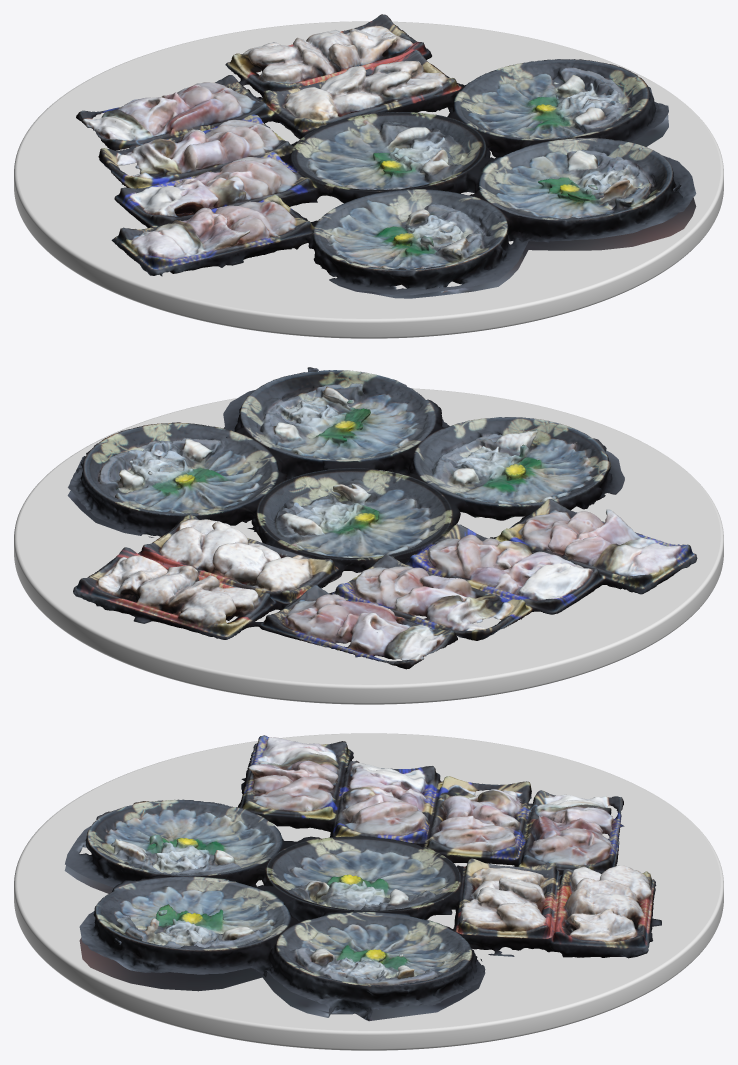
3 views of the same model, one above another, from view 1: azimuth 30°, elevation 25°; view 2: azimuth 150°, elevation 25°; view 3: azimuth 270°, elevation 25° (orthographic).
Visible parts, largest first — view 1: No02_Retained_Food, No02_One_Circular_Platform; view 2: No02_Retained_Food, No02_One_Circular_Platform; view 3: No02_Retained_Food, No02_One_Circular_Platform.
Part boxes in pixels (left/top/right/bottom): No02_Retained_Food: left=76, top=14, right=696, bottom=298; No02_One_Circular_Platform: left=14, top=21, right=723, bottom=338; No02_Retained_Food: left=67, top=367, right=697, bottom=669; No02_One_Circular_Platform: left=14, top=388, right=723, bottom=704; No02_Retained_Food: left=64, top=735, right=661, bottom=1021; No02_One_Circular_Platform: left=14, top=733, right=723, bottom=1050.
Bounding box in the file's own units: 0.33 × 0.0269 × 0.33.
2 materials, 1 textured.
